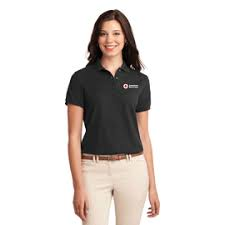C_polo shirt: (65, 62, 157, 154)
